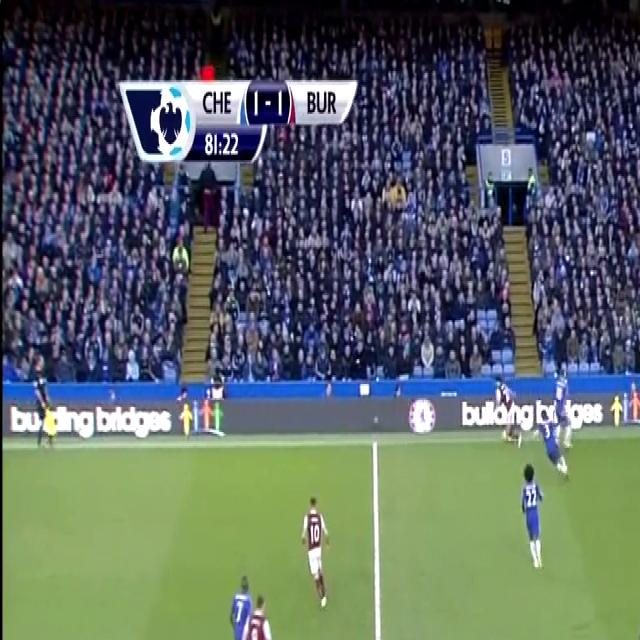referee: (27, 357, 57, 457)
soccer-player: (295, 484, 336, 618), (517, 464, 553, 581), (542, 398, 572, 482), (493, 369, 522, 452), (550, 366, 577, 455), (240, 588, 286, 640), (221, 563, 252, 640), (639, 570, 640, 640)
